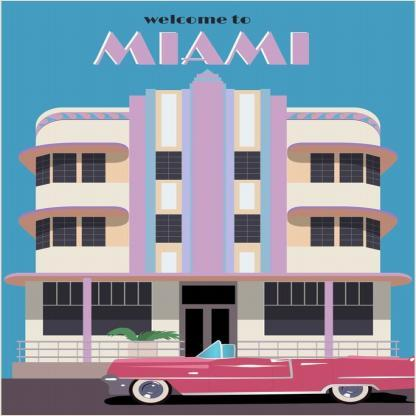Building Outline: (3, 67, 414, 379)
Door: (180, 306, 237, 363)
Facade: (3, 68, 414, 379)
Molding: (287, 112, 381, 137), (35, 112, 130, 136)
Pillar: (181, 68, 235, 272), (260, 89, 288, 272), (129, 89, 156, 272), (325, 278, 334, 362), (83, 278, 92, 362)
Window: (91, 283, 152, 336), (264, 283, 325, 336), (334, 283, 374, 336), (43, 283, 82, 336), (182, 286, 235, 304), (156, 214, 182, 243), (156, 151, 182, 180), (234, 151, 260, 180), (234, 214, 260, 243), (53, 217, 77, 246), (53, 153, 76, 183), (311, 217, 334, 247), (340, 217, 363, 247), (82, 154, 105, 183), (82, 217, 105, 246), (311, 154, 334, 183), (340, 154, 363, 183), (35, 217, 50, 251), (366, 154, 381, 187), (35, 154, 49, 187), (366, 217, 380, 250)
